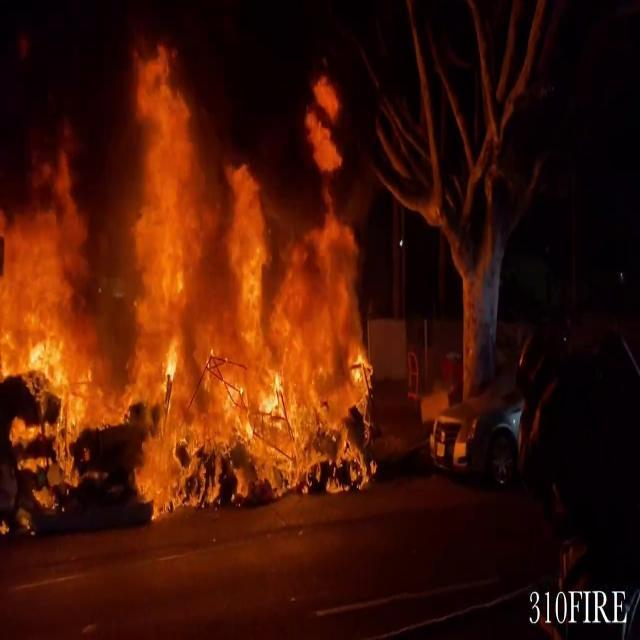Fire: (0, 41, 370, 522)
